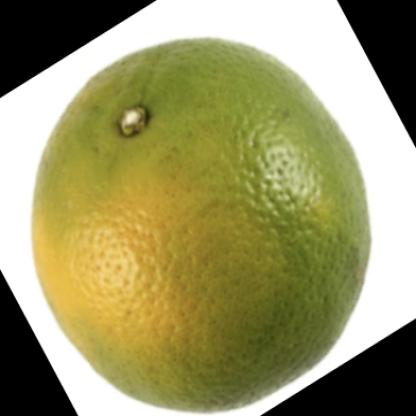fresh: (35, 40, 372, 415)
